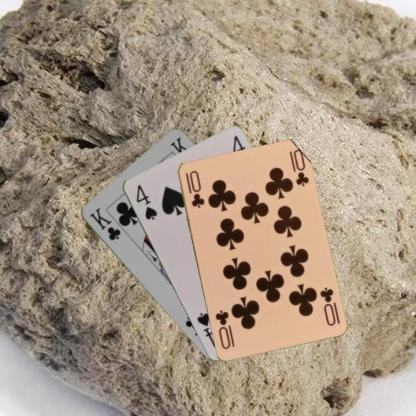10c: (182, 168, 206, 209), (316, 284, 336, 327)
4s: (133, 182, 158, 222)
Kc: (87, 205, 122, 242)
